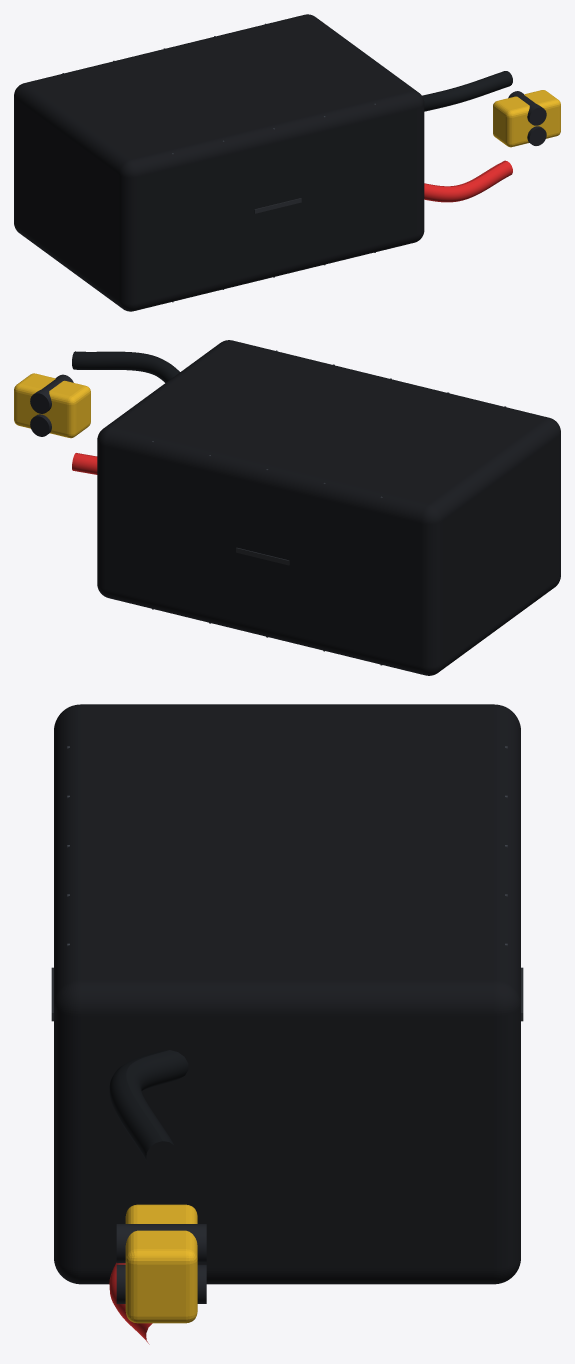
The model's file is tattu-rline-v5-1550-6s.glb.
3 renders of one model, top to bottom at view 1: azimuth 30°, elevation 25°; view 2: azimuth 150°, elevation 25°; view 3: azimuth 270°, elevation 25°, orthographic. The views are drawn at different scales.
Parts seen in each view (by area): view 1: Tattu_RLine_V5_1550mAh_6S_spec_model; view 2: Tattu_RLine_V5_1550mAh_6S_spec_model; view 3: Tattu_RLine_V5_1550mAh_6S_spec_model.
Boxes of the visible parts, bbox=[...] form: Tattu_RLine_V5_1550mAh_6S_spec_model: bbox=[14, 14, 560, 311]; Tattu_RLine_V5_1550mAh_6S_spec_model: bbox=[14, 340, 560, 675]; Tattu_RLine_V5_1550mAh_6S_spec_model: bbox=[51, 704, 523, 1344].
Bounding box in the file's own units: 0.117 × 0.0383 × 0.0525.
